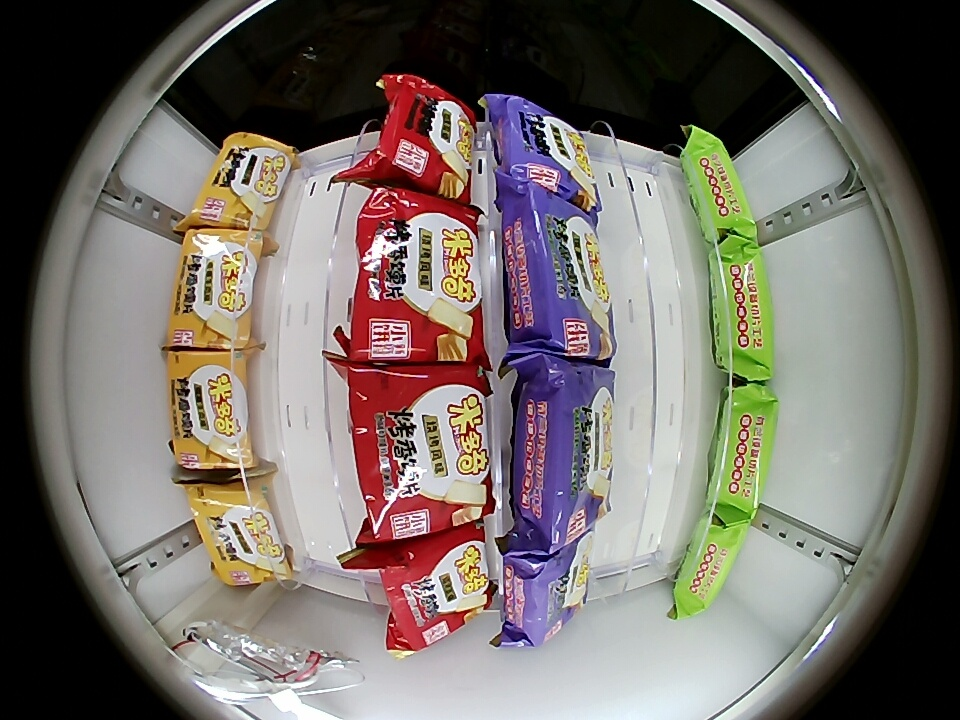kaomo_gali: (187, 476, 292, 584), (166, 229, 260, 349), (188, 131, 294, 231), (167, 352, 254, 470)
kaomo_jiaoyan: (509, 360, 615, 548), (500, 190, 615, 361), (486, 95, 602, 215), (499, 525, 598, 647)
kaomo_shaokao: (348, 364, 494, 539), (349, 189, 485, 362), (378, 524, 493, 651), (369, 76, 476, 203)
kaomo_xiangcon: (705, 386, 778, 514), (709, 243, 774, 380), (681, 133, 756, 247), (672, 512, 750, 615)
